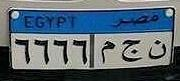6: (14, 38, 32, 64), (72, 38, 88, 64), (34, 38, 49, 65), (53, 38, 68, 64)
jeem: (120, 39, 143, 63)
meem: (100, 39, 116, 64)
noon: (146, 37, 169, 62)
